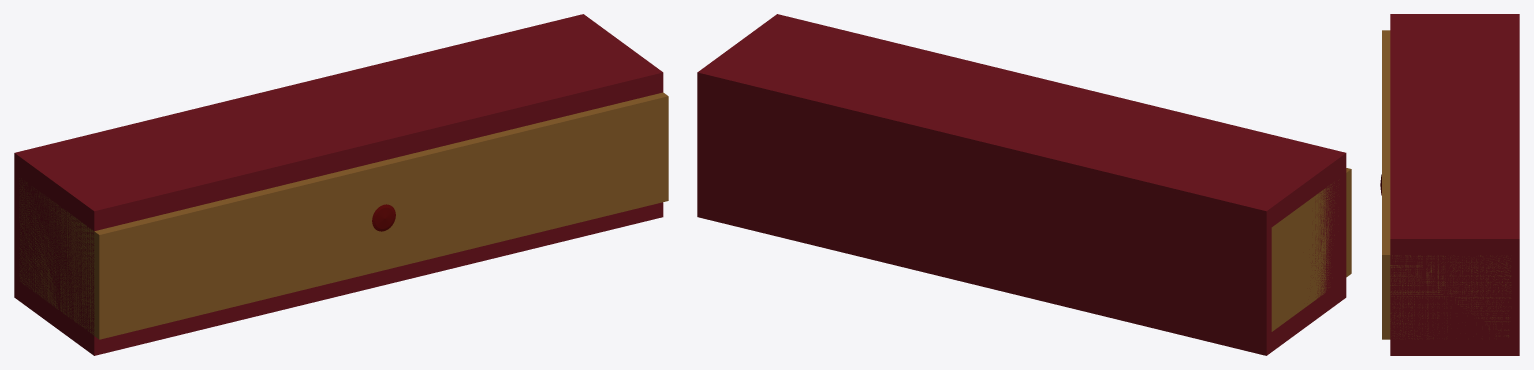
Rendered from TD_DamageBlock.obj.
3 views of the same model, side by side, from view 1: azimuth 30°, elevation 25°; view 2: azimuth 150°, elevation 25°; view 3: azimuth 270°, elevation 25° (orthographic). The views are drawn at different scales.
Parts seen in each view (by area): view 1: 球; view 2: 球; view 3: 球.
Part boxes in pixels (box(x1,y1,x2,y2)): 球: box(14, 14, 668, 355); 球: box(697, 14, 1351, 355); 球: box(1380, 14, 1519, 355).
Bounding box in the file's own units: 8.23 × 2 × 2.16.
